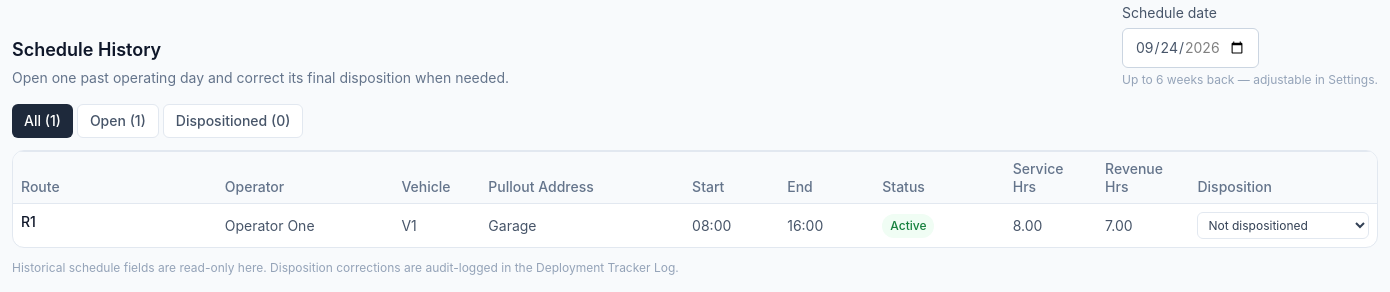
Test: Schedule History loads one past day and allows disposition-only corrections
Expected: the text "R1" is shown, x1=21 y1=212 x2=36 y2=232
Select "Deployed – Late" in the dropdown titled "Final outcome for this route" at (1283, 226), box x1=1198 y1=212 x2=1369 y2=239
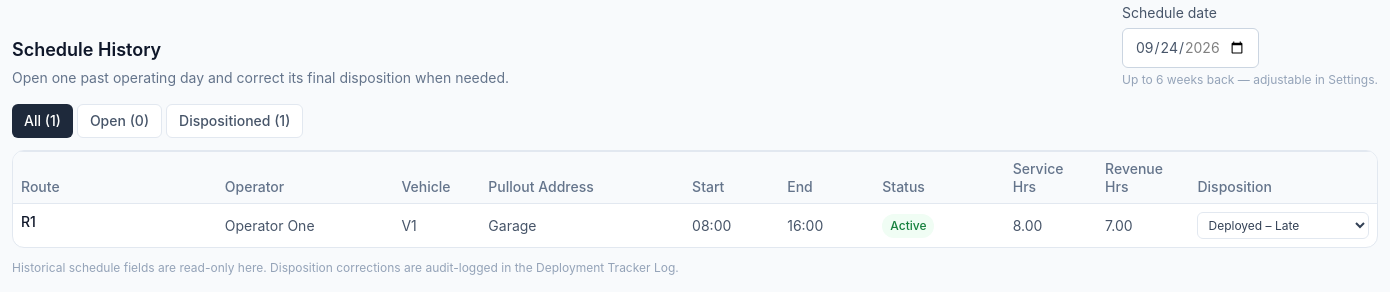
Expected: the tab "Dispositioned (1)" is shown, x1=166 y1=104 x2=303 y2=138
